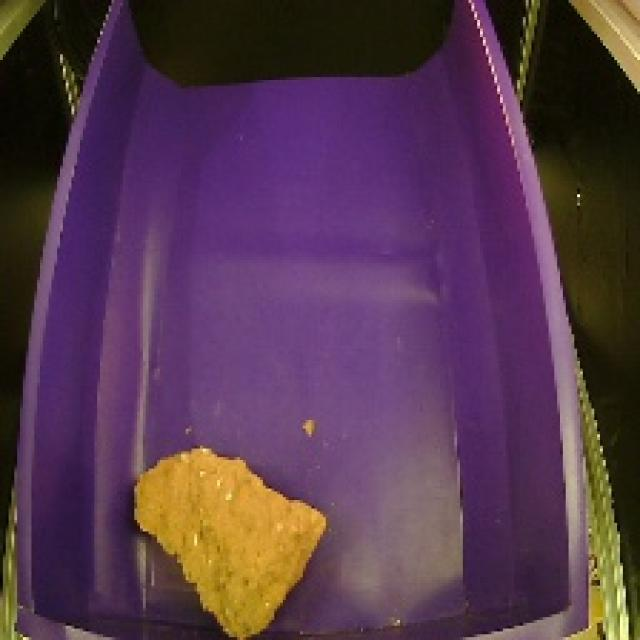brick: (123, 433, 335, 640)
